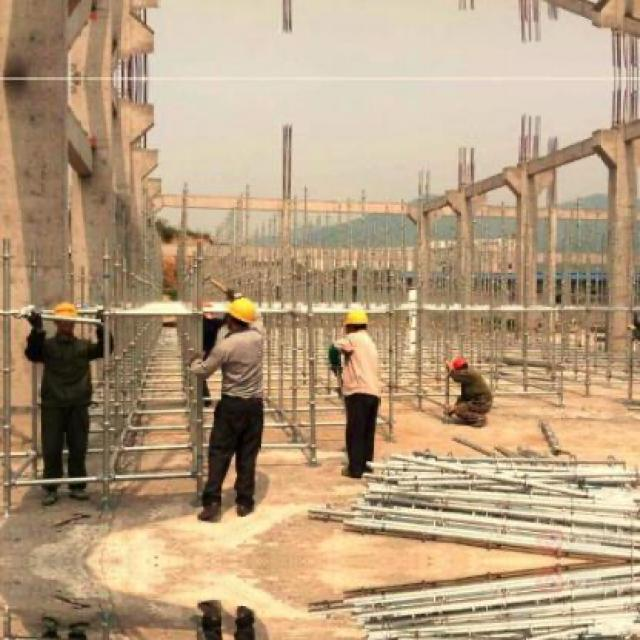helmet: (226, 298, 259, 334), (48, 300, 77, 334), (345, 307, 369, 344), (451, 356, 469, 378)
